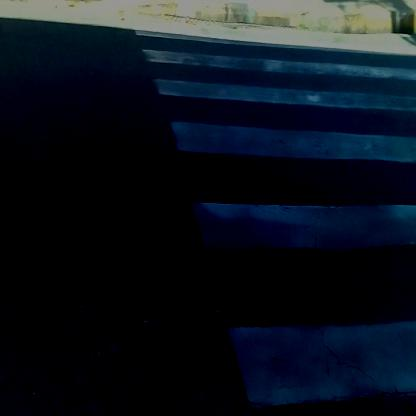crosswalk: (131, 19, 414, 416)
sidewalk: (24, 3, 414, 50)
